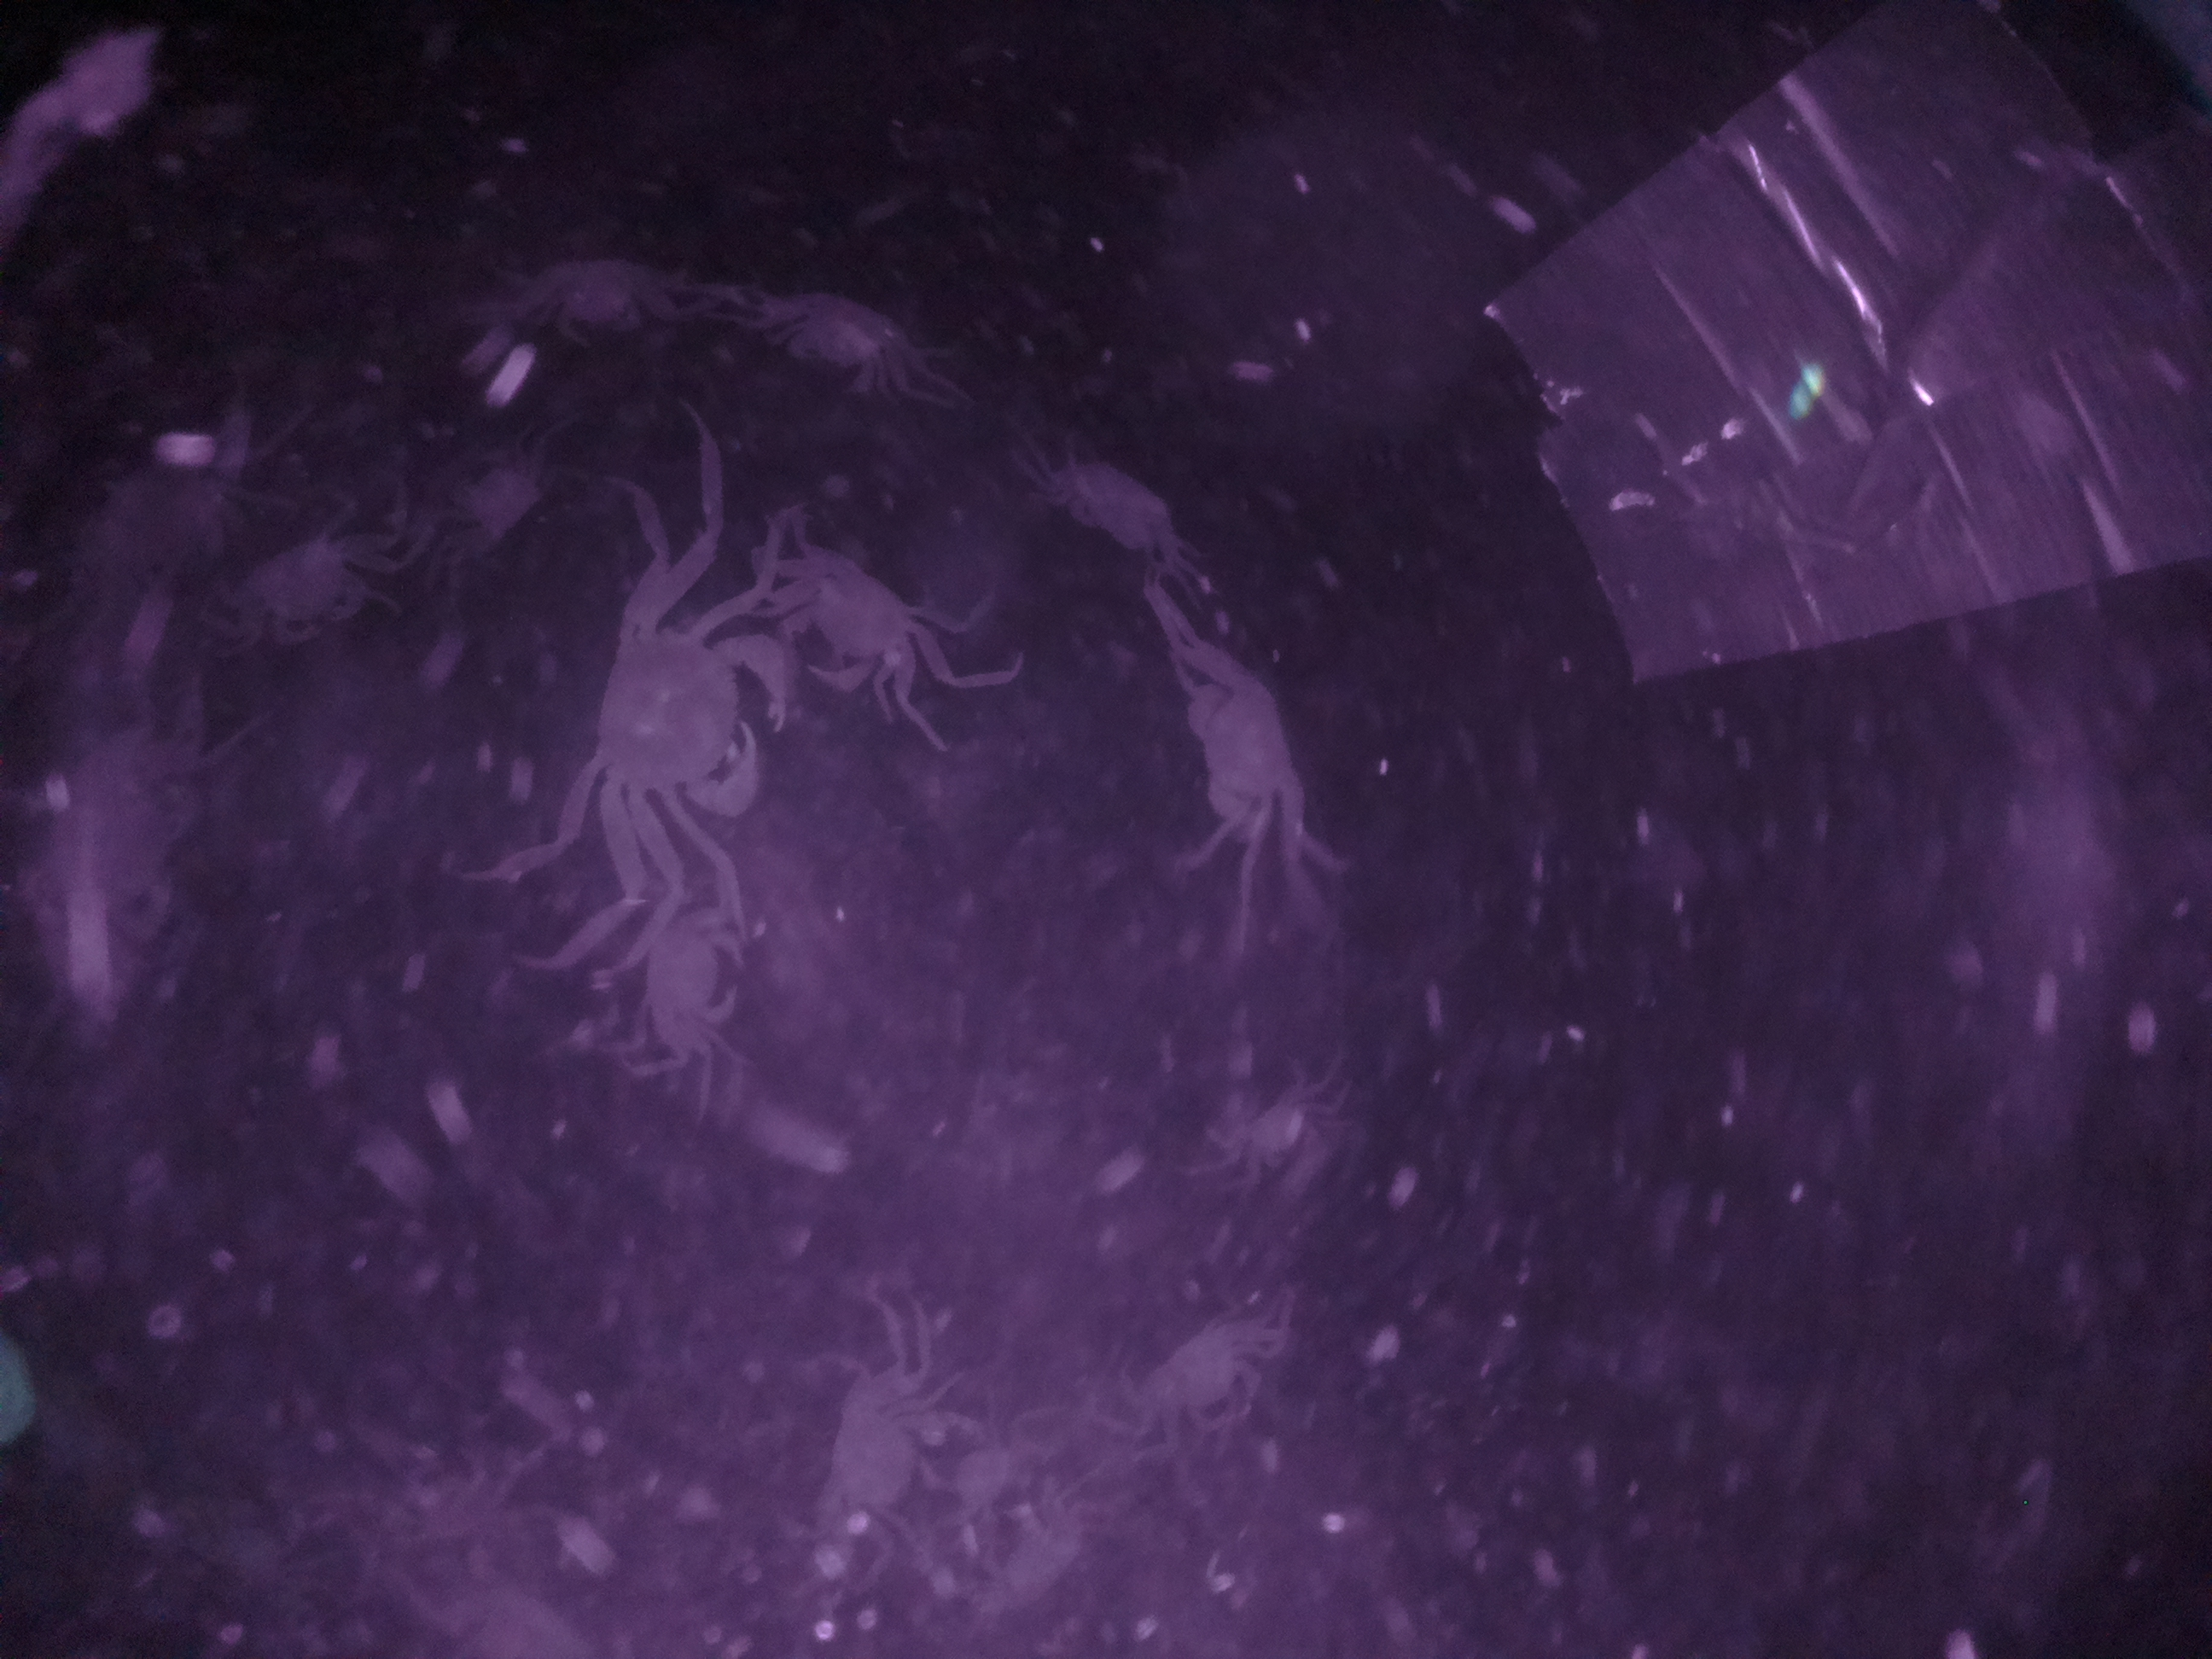Crab: (571, 596, 810, 836), (1172, 645, 1339, 849), (761, 538, 948, 699), (625, 892, 779, 1054)
